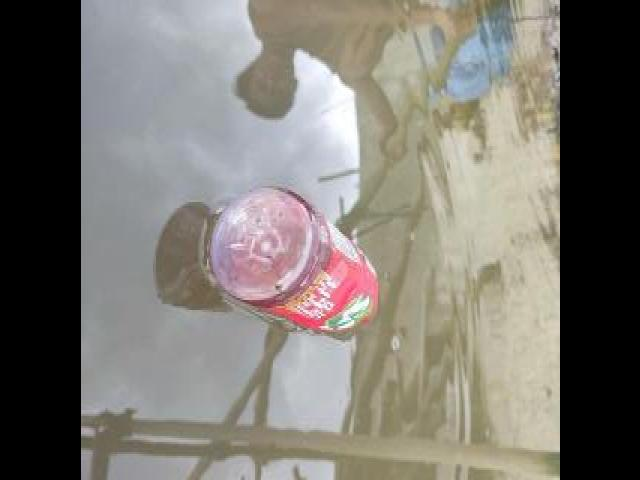Bottle: (202, 175, 386, 351)
